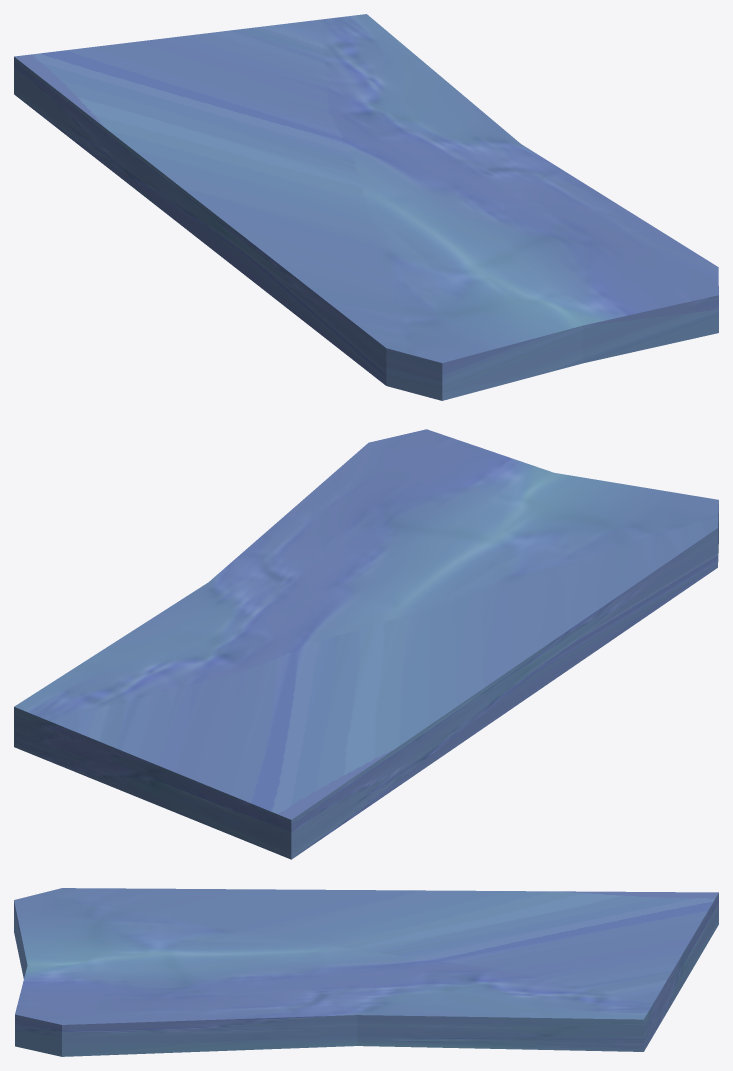
The model's file is iceblock2.glb.
The picture shows the model from 3 angles, top to bottom: view 1: azimuth 30°, elevation 25°; view 2: azimuth 150°, elevation 25°; view 3: azimuth 270°, elevation 25°; orthographic projection. The views are drawn at different scales.
Visible parts, largest first — view 1: Cube; view 2: Cube; view 3: Cube.
Part boxes in pixels (box(x1,y1,x2,y2)): Cube: box(14, 14, 718, 400); Cube: box(14, 429, 718, 859); Cube: box(14, 888, 718, 1056).
Size of the model in its own units: 1.31 by 0.1747 by 2.86.
Materials: 1 (1 with a texture image).
